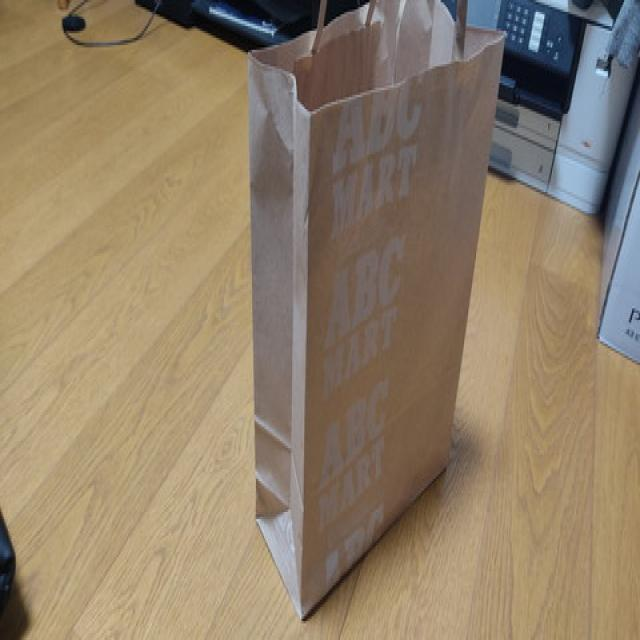paper bag: (245, 0, 508, 624)
